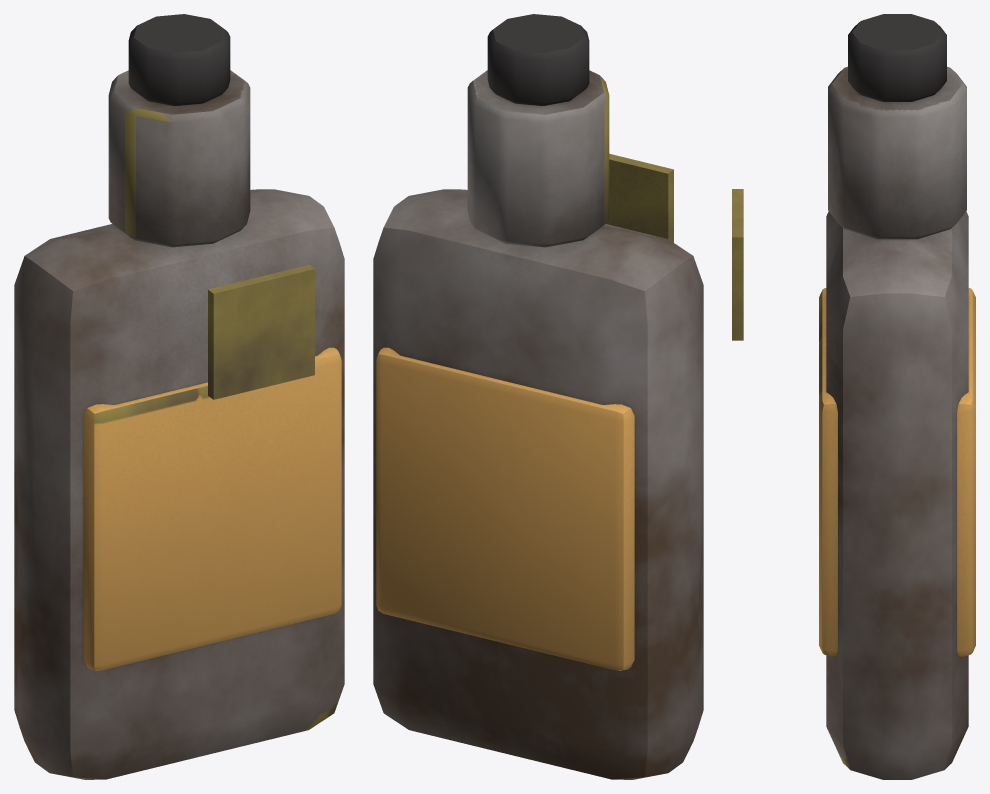
The model's file is g67_pz_bottle_5.glb.
3 renders of one model, left to right at view 1: azimuth 30°, elevation 25°; view 2: azimuth 150°, elevation 25°; view 3: azimuth 270°, elevation 25°, orthographic. The views are drawn at different scales.
Parts seen in each view (by area): view 1: g67_pz_bottle_5, sticker; view 2: g67_pz_bottle_5, sticker; view 3: g67_pz_bottle_5, sticker.
Part boxes in pixels (bbox=[...]): g67_pz_bottle_5: bbox=[14, 14, 344, 779]; sticker: bbox=[208, 265, 314, 399]; g67_pz_bottle_5: bbox=[373, 14, 703, 779]; sticker: bbox=[606, 153, 673, 242]; g67_pz_bottle_5: bbox=[819, 14, 975, 779]; sticker: bbox=[732, 189, 743, 340].
Bounding box in the file's own units: 0.12 × 0.27 × 0.0855.
1 material, 1 textured.
